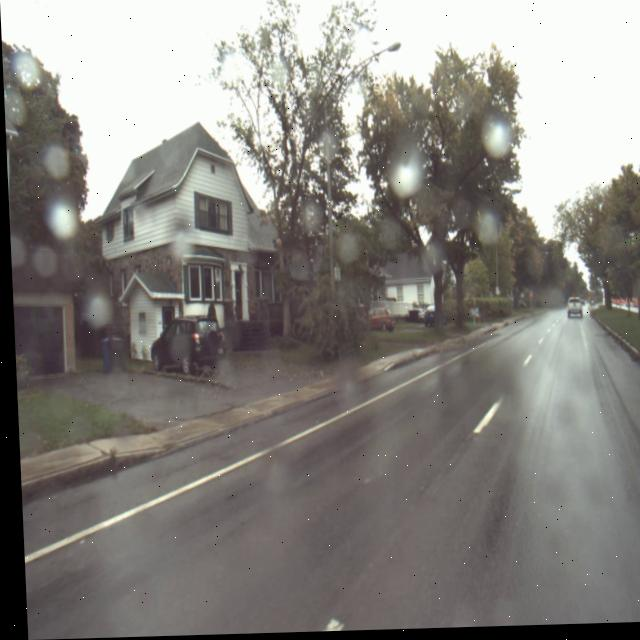car: (146, 317, 224, 377), (364, 307, 392, 333), (561, 298, 581, 324)
